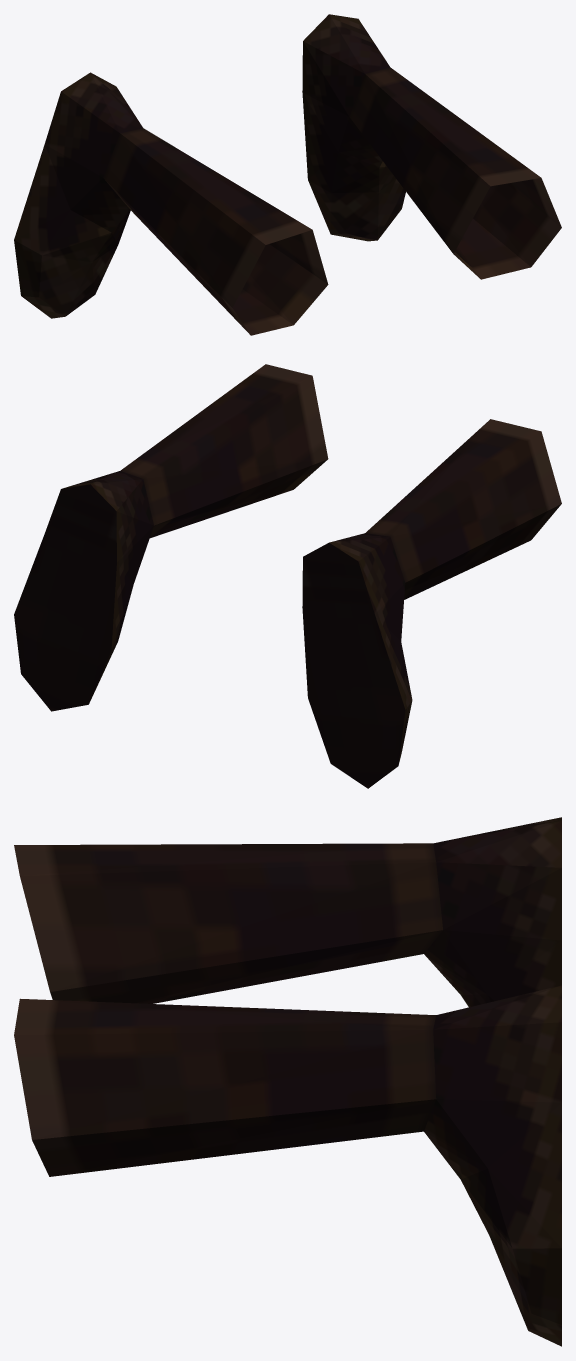
File: priest_shoe_male_340005.obj
3 renders of one model, top to bottom at view 1: azimuth 30°, elevation 25°; view 2: azimuth 150°, elevation 25°; view 3: azimuth 270°, elevation 25°, orthographic. The views are drawn at different scales.
Visible parts, largest first — view 1: priest_shoe_male_340005; view 2: priest_shoe_male_340005; view 3: priest_shoe_male_340005.
Part boxes in pixels (x1=…): priest_shoe_male_340005: x1=14, y1=14, x2=561, y2=335; priest_shoe_male_340005: x1=14, y1=364, x2=561, y2=788; priest_shoe_male_340005: x1=14, y1=817, x2=561, y2=1346.
Bounding box in the file's own units: 26.55 × 15.34 × 22.78.
Materials: 1 (1 with a texture image).
